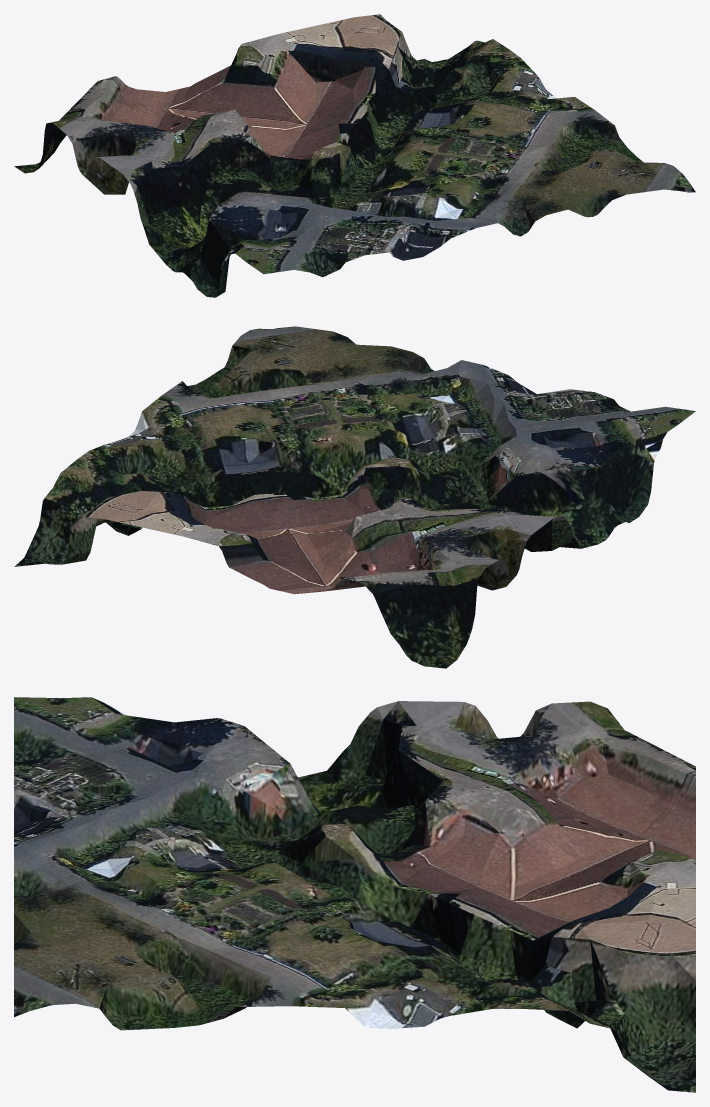
The model's file is map_15_8177_13785.dae.
3 views of the same model, one above another, from view 1: azimuth 30°, elevation 25°; view 2: azimuth 150°, elevation 25°; view 3: azimuth 270°, elevation 25° (orthographic). The views are drawn at different scales.
Parts seen in each view (by area): view 1: Ter0; view 2: Ter0; view 3: Ter0.
Boxes of the visible parts, bbox=[...] form: Ter0: bbox=[14, 14, 695, 297]; Ter0: bbox=[14, 326, 695, 668]; Ter0: bbox=[14, 697, 695, 1092].
Bounding box in the file's own units: 63.87 × 63.88 × 11.1.
2 materials, 2 textured.
